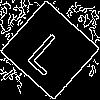L: (25, 25, 76, 77)
